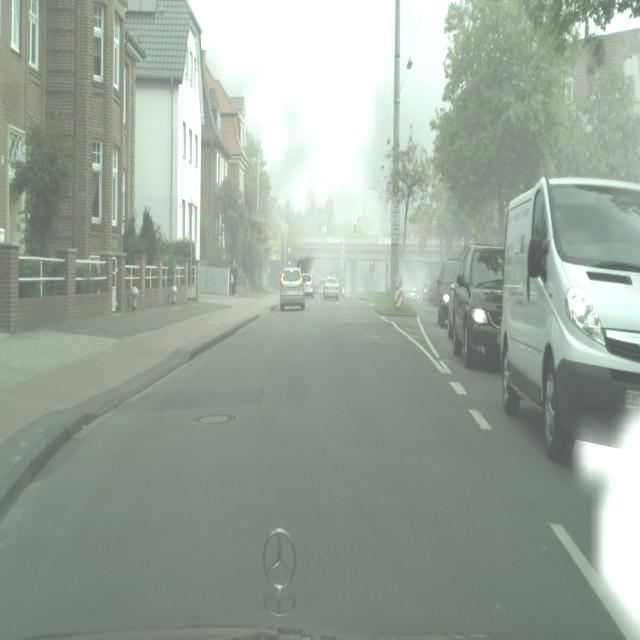person: (230, 258, 238, 296)
truck: (499, 176, 640, 464), (449, 242, 504, 370), (436, 257, 459, 328), (279, 266, 306, 311), (323, 275, 340, 301), (302, 272, 315, 296)
